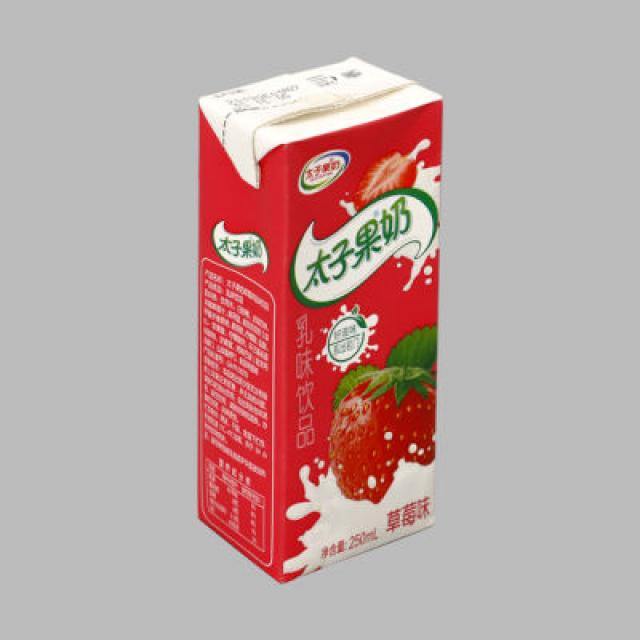non_white_jug: (181, 38, 445, 590)
